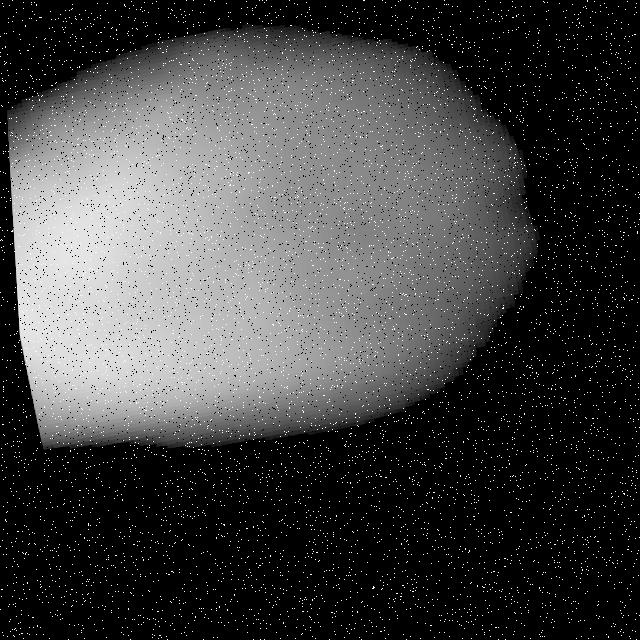person: (3, 19, 619, 460)
